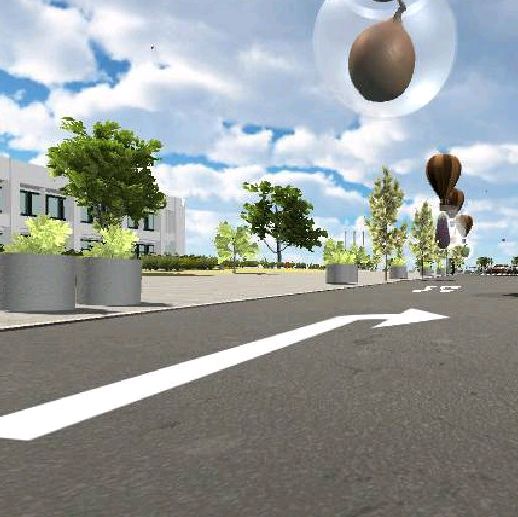ground_right: (318, 306, 453, 327)
